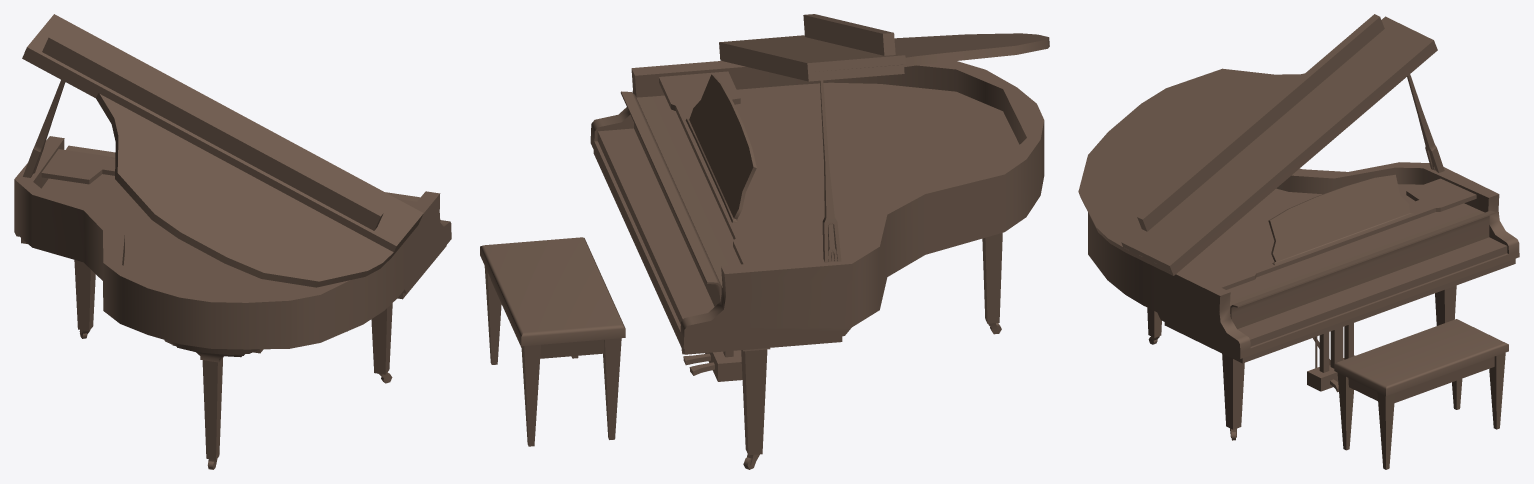
The model's file is Piano.fbx.
3 renders of one model, left to right at view 1: azimuth 30°, elevation 25°; view 2: azimuth 150°, elevation 25°; view 3: azimuth 270°, elevation 25°, orthographic. The views are drawn at different scales.
Visible parts, largest first — view 1: Piano, Cover_01, Cover_02, Stand_01, Pin; view 2: Piano, Seat, Cover_02, Stand_01, Cover_01, Stand_02, Keys_Cover, Pin; view 3: Piano, Cover_02, Cover_01, Seat, Keys_Cover, Stand_02, Stand_01, Pin.
Part boxes in pixels (box(x1,y1,x2,y2)): Piano: box(14, 136, 451, 469); Cover_01: box(22, 53, 420, 287); Cover_02: box(24, 14, 423, 252); Stand_01: box(41, 149, 416, 206); Pin: box(23, 80, 65, 177); Piano: box(590, 61, 1044, 469); Seat: box(480, 237, 625, 446); Cover_02: box(719, 14, 905, 72); Stand_01: box(659, 71, 812, 264); Cover_01: box(719, 33, 1049, 81); Stand_02: box(685, 74, 756, 223); Keys_Cover: box(620, 91, 721, 306); Pin: box(820, 80, 841, 262); Piano: box(1088, 162, 1519, 440); Cover_02: box(1121, 14, 1435, 270); Cover_01: box(1078, 45, 1437, 275); Seat: box(1334, 319, 1508, 469); Keys_Cover: box(1230, 210, 1495, 329); Stand_02: box(1268, 174, 1413, 265); Stand_01: box(1188, 178, 1476, 289); Pin: box(1407, 74, 1444, 172).
Size of the model in its own units: 147 by 137 by 176.
